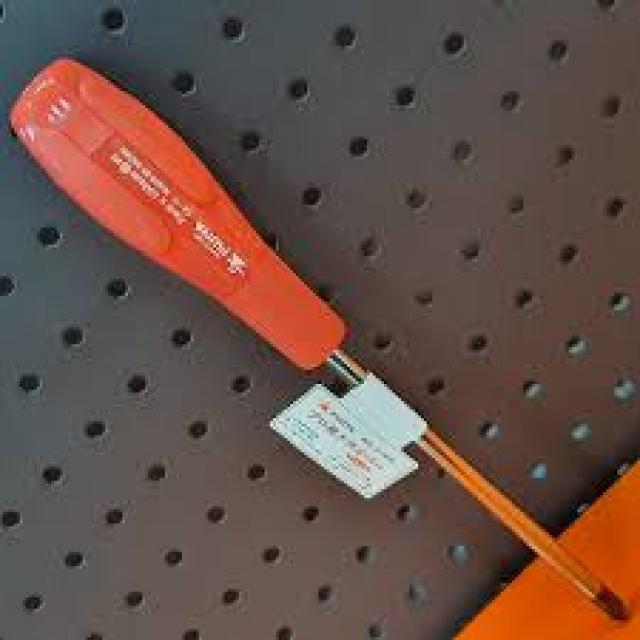screwdriver: (8, 53, 638, 622)
